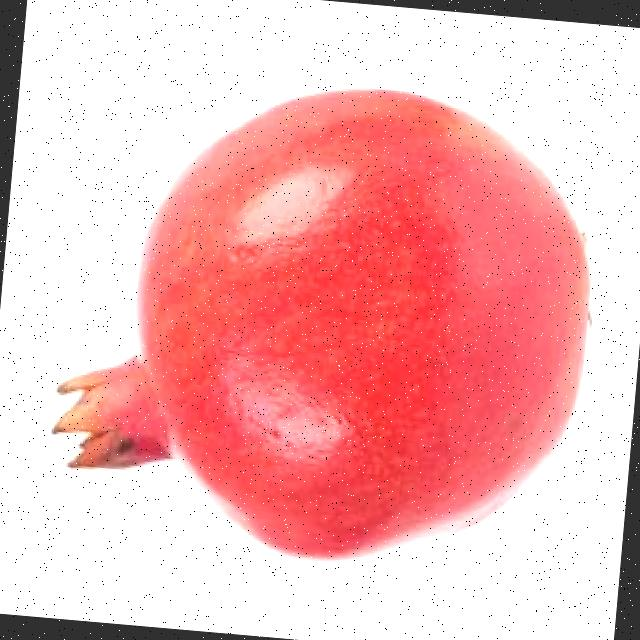Pomegranate: (32, 55, 607, 594)
